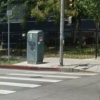crosswalk: (0, 70, 97, 94)
